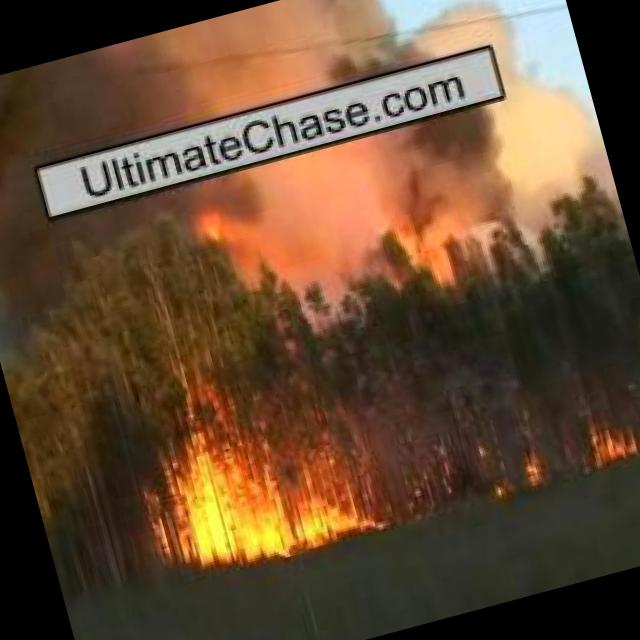Fire: (148, 412, 382, 582), (469, 433, 546, 501), (384, 209, 458, 274), (184, 188, 243, 253), (589, 412, 640, 465)
Smoke: (145, 74, 634, 383), (0, 0, 510, 190)
